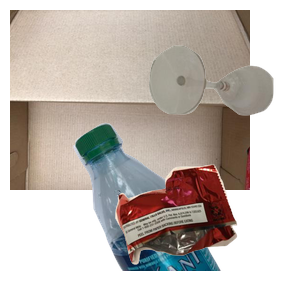cardboard: (10, 10, 250, 190)
glass: (147, 43, 300, 151)
plastic: (71, 120, 300, 300)
trash: (113, 162, 300, 300)
